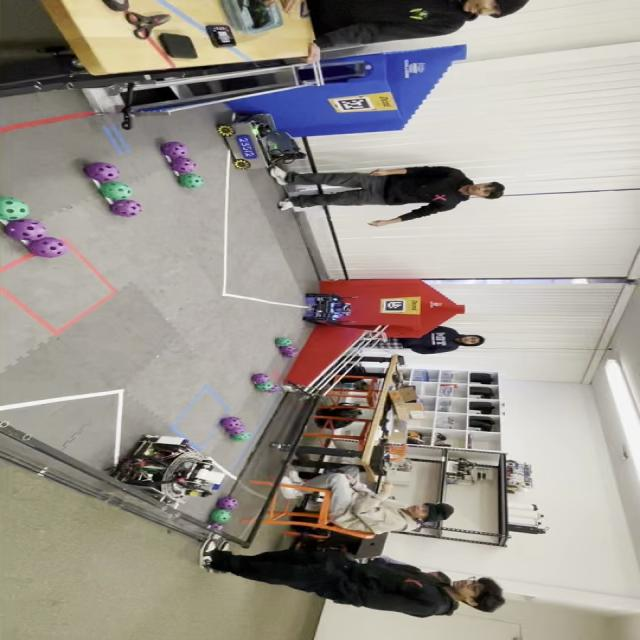artifact_green: (0, 197, 29, 221), (100, 182, 132, 200), (178, 174, 203, 188), (210, 509, 232, 524), (217, 125, 235, 136), (232, 432, 252, 441), (254, 382, 274, 391), (234, 159, 251, 169), (275, 338, 292, 347)
artifact_purple: (4, 219, 47, 241), (29, 238, 67, 257), (85, 162, 119, 183), (110, 200, 142, 216), (162, 142, 188, 158), (171, 157, 196, 173), (216, 496, 239, 510), (220, 417, 244, 429), (254, 381, 276, 392), (251, 373, 270, 384), (280, 346, 298, 357), (232, 432, 252, 441), (226, 426, 245, 435), (207, 523, 224, 533), (267, 385, 282, 393)
